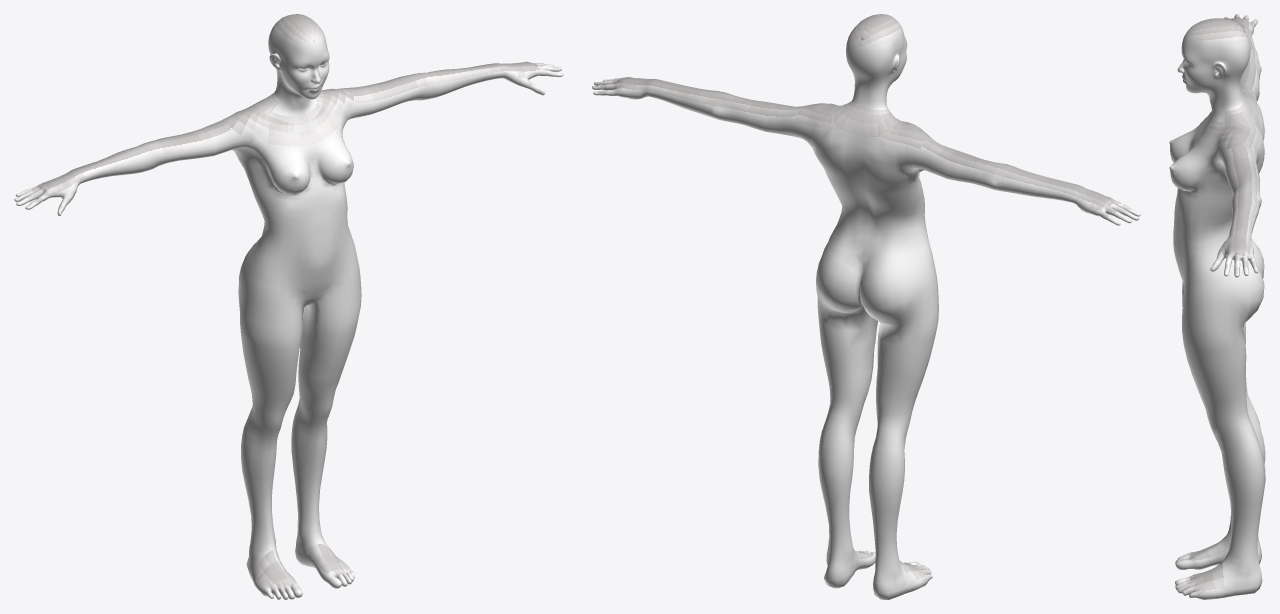
Rendered from MFemelle.obj.
3 renders of one model, left to right at view 1: azimuth 30°, elevation 25°; view 2: azimuth 150°, elevation 25°; view 3: azimuth 270°, elevation 25°, orthographic.
Parts seen in each view (by area): view 1: Body; view 2: Body; view 3: Body.
Part boxes in pixels (<box>): Body: <box>14,14,563,599</box>; Body: <box>592,14,1140,599</box>; Body: <box>1169,14,1265,599</box>.
Bounding box in the file's own units: 179 × 177 × 27.52.
1 material, 1 textured.
